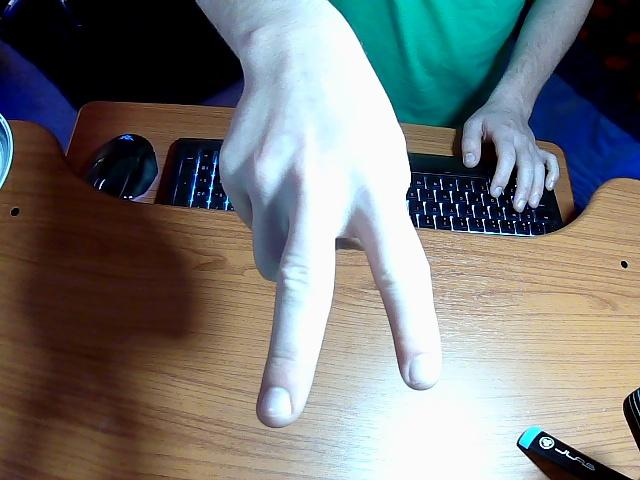scissors: (200, 1, 441, 427)
